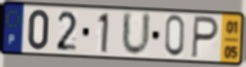0: (26, 8, 51, 52), (164, 13, 186, 59)
1: (96, 12, 111, 55)
2: (57, 10, 79, 53)
P: (190, 14, 221, 61)
U: (121, 10, 153, 58)
